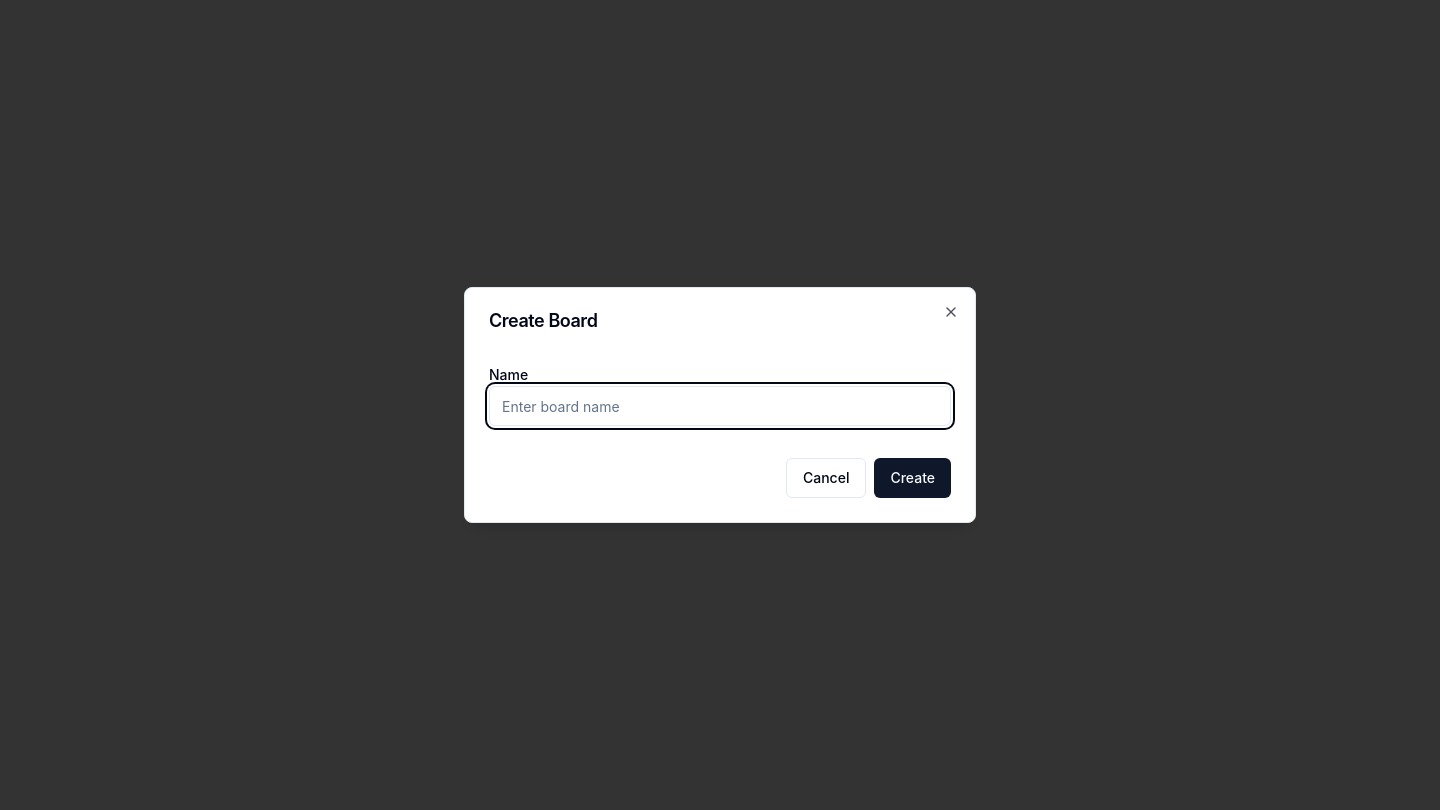
Scenario: S4 - Board UI › BoardDialog › shows error for empty name
The width and height of the screenshot is (1440, 810).
What coordinates should you click on to do the following:
click the button "Create"
I would click on:
 (913, 478)
Its box is [874,458,951,498].
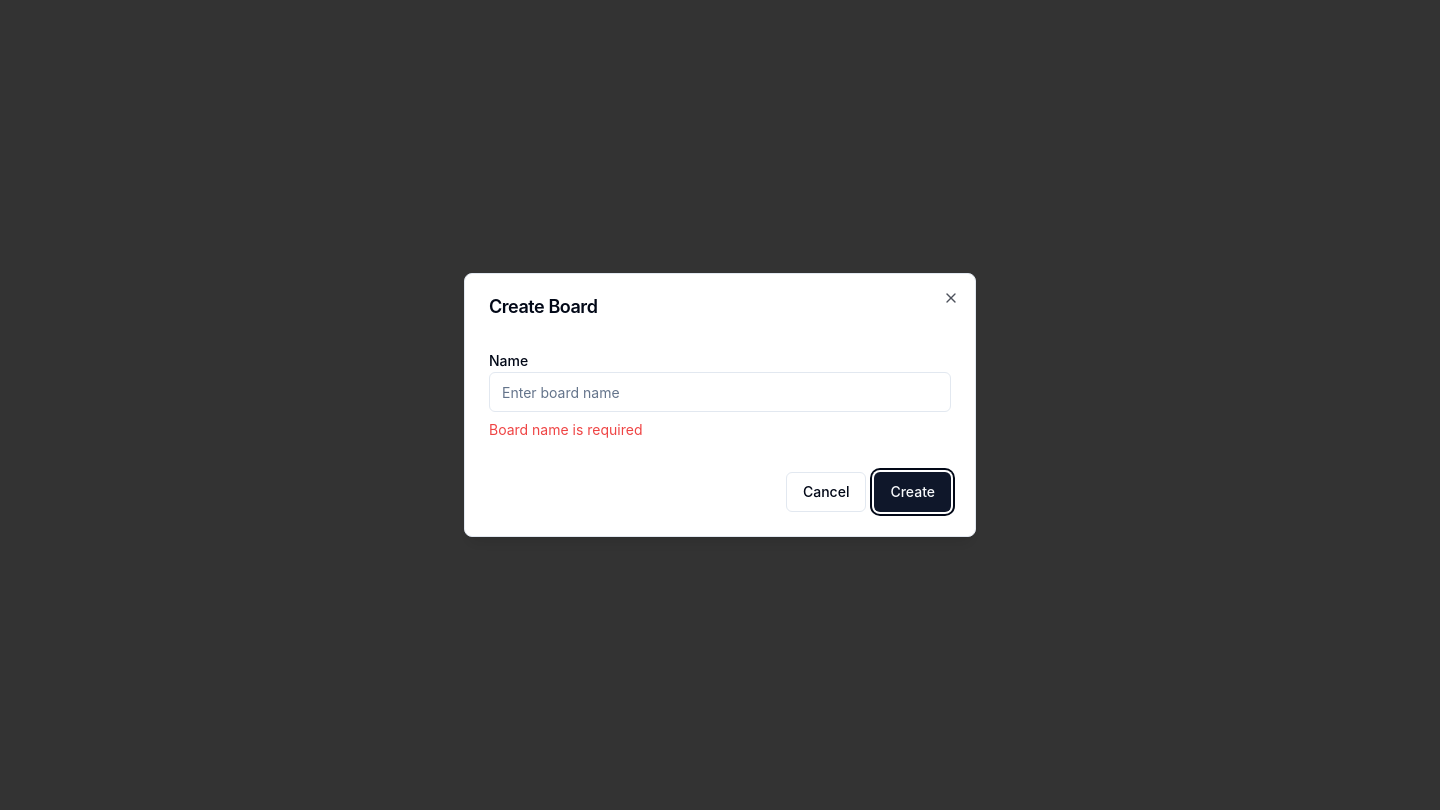
Expected: the text "Board name is required" is shown, [489,421,642,438]
